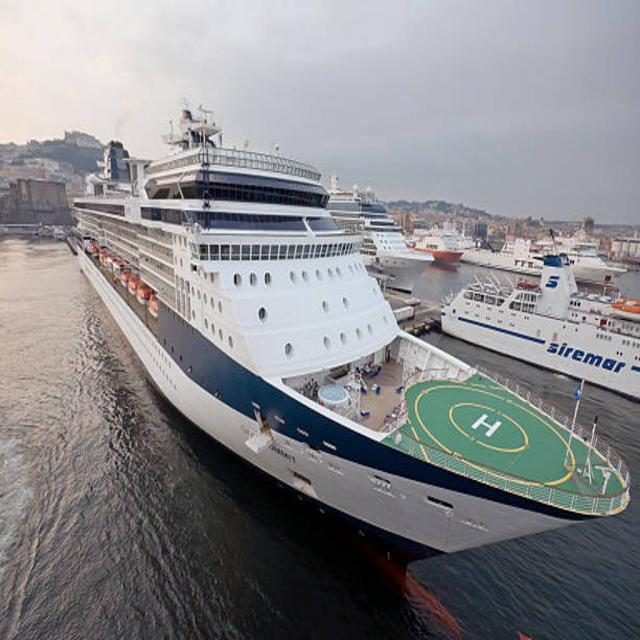helipad: (448, 401, 529, 453)
